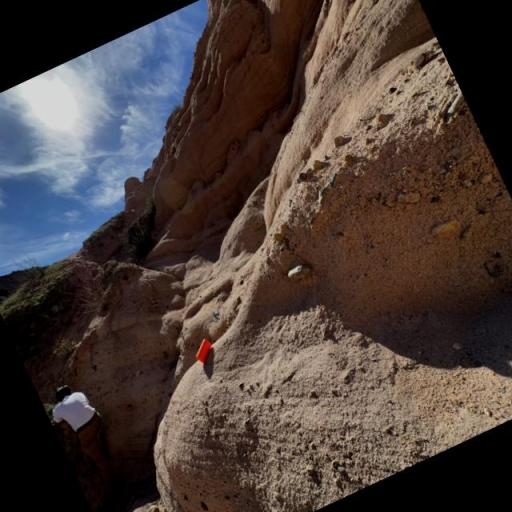mallet: (190, 336, 217, 366)
